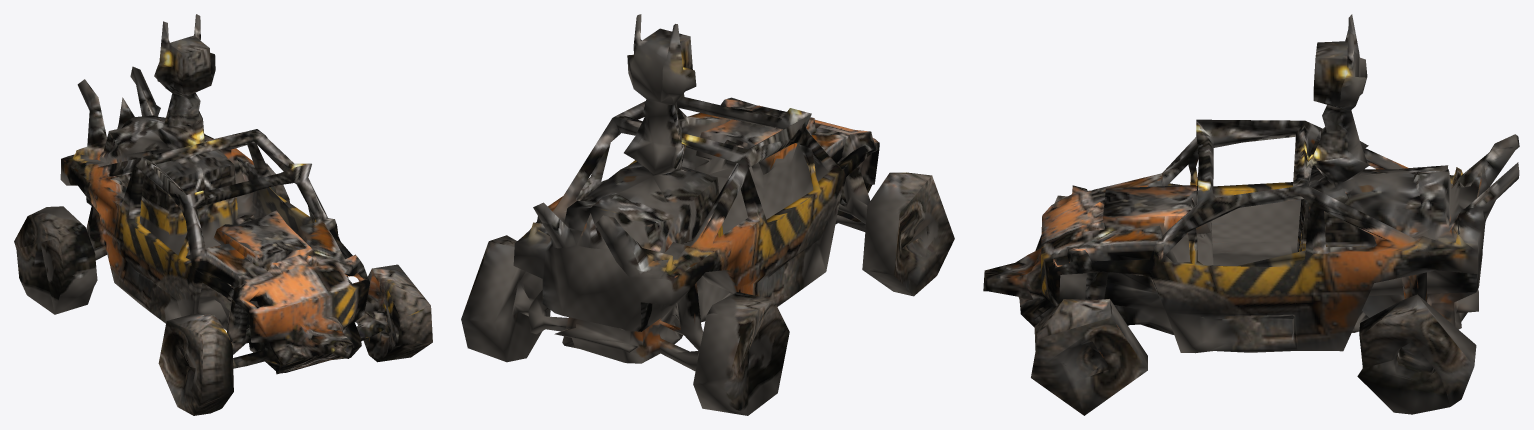
File: lookout_lod2.glb
3 renders of one model, left to right at view 1: azimuth 30°, elevation 25°; view 2: azimuth 150°, elevation 25°; view 3: azimuth 270°, elevation 25°, orthographic. The views are drawn at different scales.
Parts seen in each view (by area): view 1: geometry_0; view 2: geometry_0; view 3: geometry_0.
Boxes of the visible parts, x1,y1,x2,y2 form: geometry_0: [14, 14, 432, 415]; geometry_0: [461, 14, 954, 415]; geometry_0: [983, 14, 1519, 415].
Bounding box in the file's own units: 1.14 × 1.35 × 1.99.
Materials: 1 (1 with a texture image).
